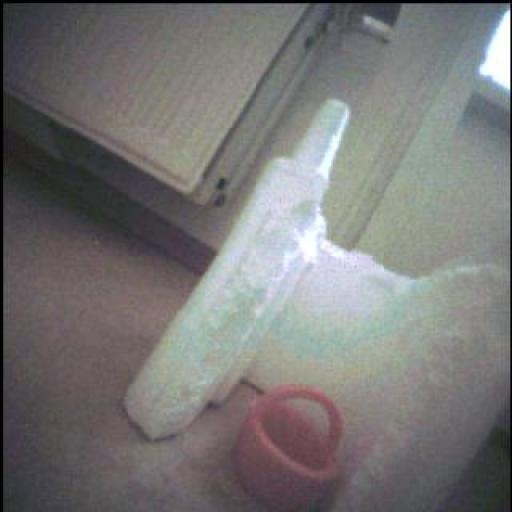Basket: (235, 385, 344, 512)
